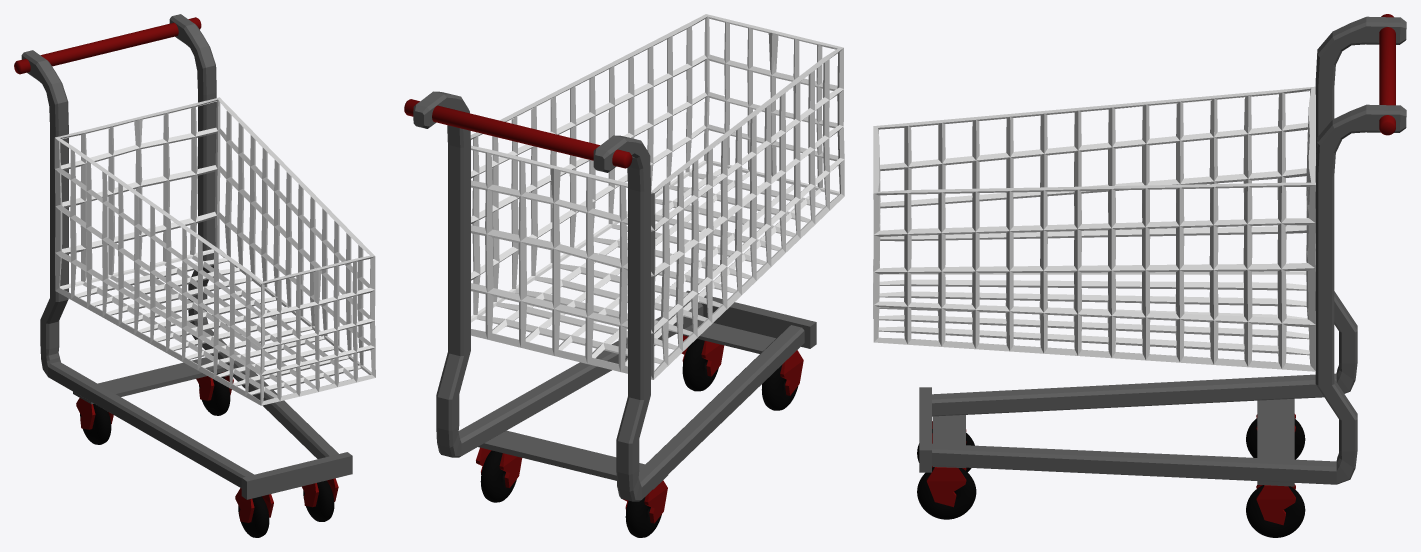
Rendered from madstore_shoper.fbx.
3 renders of one model, left to right at view 1: azimuth 30°, elevation 25°; view 2: azimuth 150°, elevation 25°; view 3: azimuth 270°, elevation 25°, orthographic. The views are drawn at different scales.
Visible parts, largest first — view 1: Cube.003; view 2: Cube.003; view 3: Cube.003.
Part boxes in pixels (<box>): Cube.003: <box>14,14,375,537</box>; Cube.003: <box>404,14,844,537</box>; Cube.003: <box>873,14,1406,537</box>.
Size of the model in its own units: 220 by 415 by 459.
